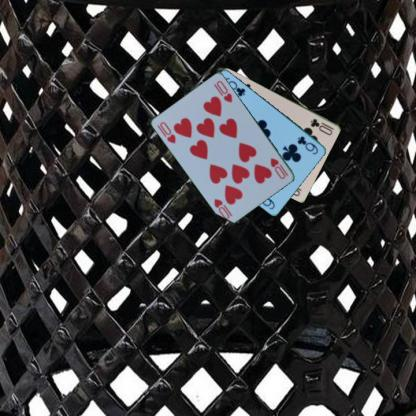10c: (308, 116, 335, 136)
10h: (268, 156, 290, 180), (158, 119, 177, 145)
6c: (295, 134, 320, 156)
